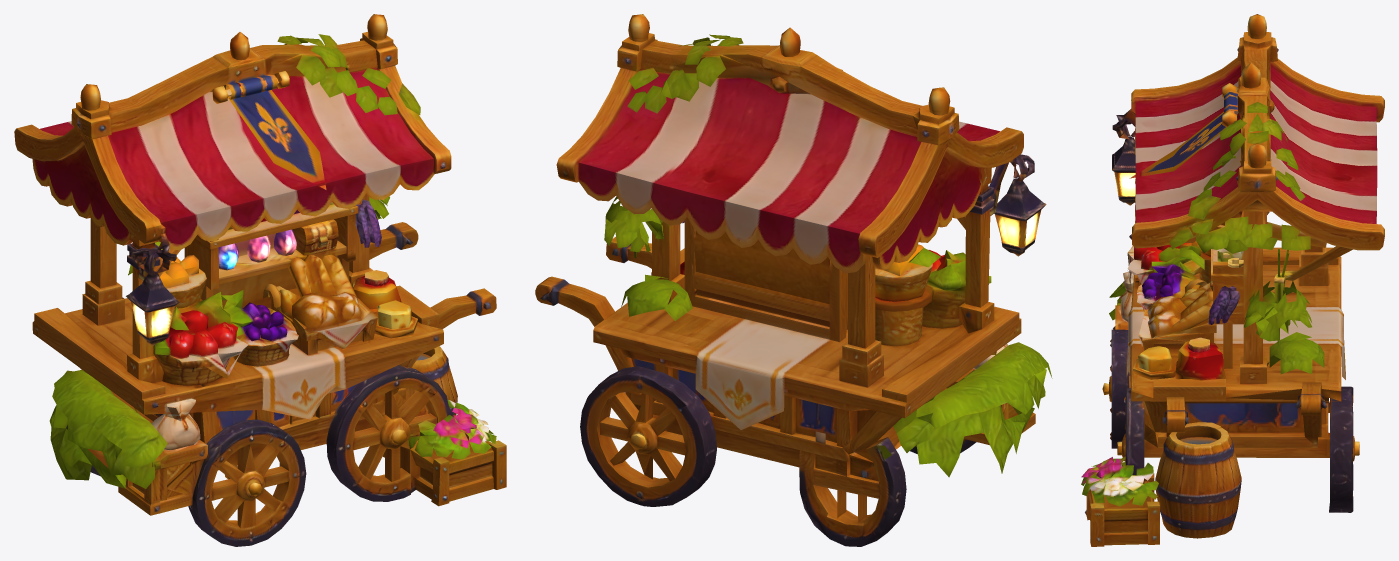
File: market-produce-cart.glb
3 renders of one model, left to right at view 1: azimuth 30°, elevation 25°; view 2: azimuth 150°, elevation 25°; view 3: azimuth 270°, elevation 25°, orthographic. The views are drawn at different scales.
Visible parts, largest first — view 1: market-produce-cart; view 2: market-produce-cart; view 3: market-produce-cart.
Boxes of the visible parts, x1,y1,x2,y2 form: market-produce-cart: (14,14,506,546); market-produce-cart: (535,14,1052,546); market-produce-cart: (1081,14,1384,546).
Bounding box in the file's own units: 5.8 × 6 × 4.03.
1 material, 1 textured.
